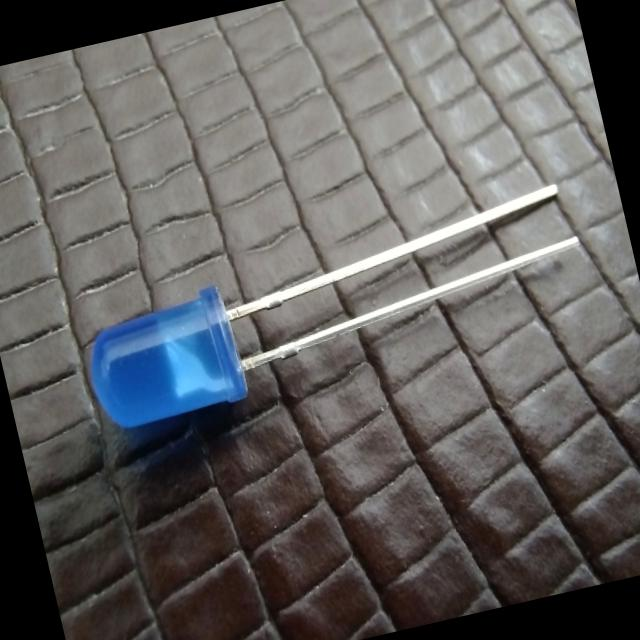blue_led: (75, 281, 251, 436)
